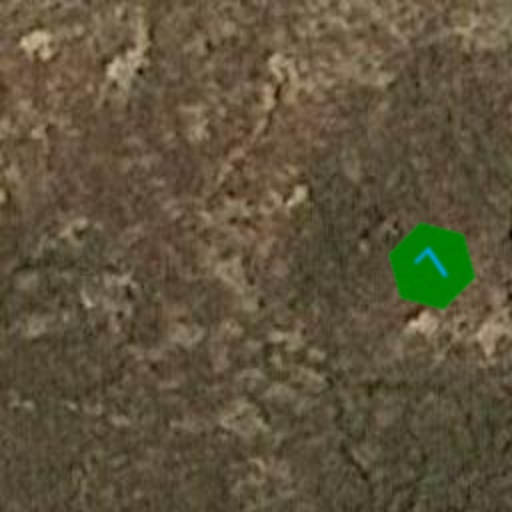hexagon: (366, 200, 498, 332)
